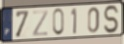0: (87, 7, 101, 36), (52, 8, 65, 38)
1: (70, 8, 77, 36)
7: (15, 10, 31, 39)
S: (103, 4, 120, 35)
Z: (32, 9, 50, 37)
